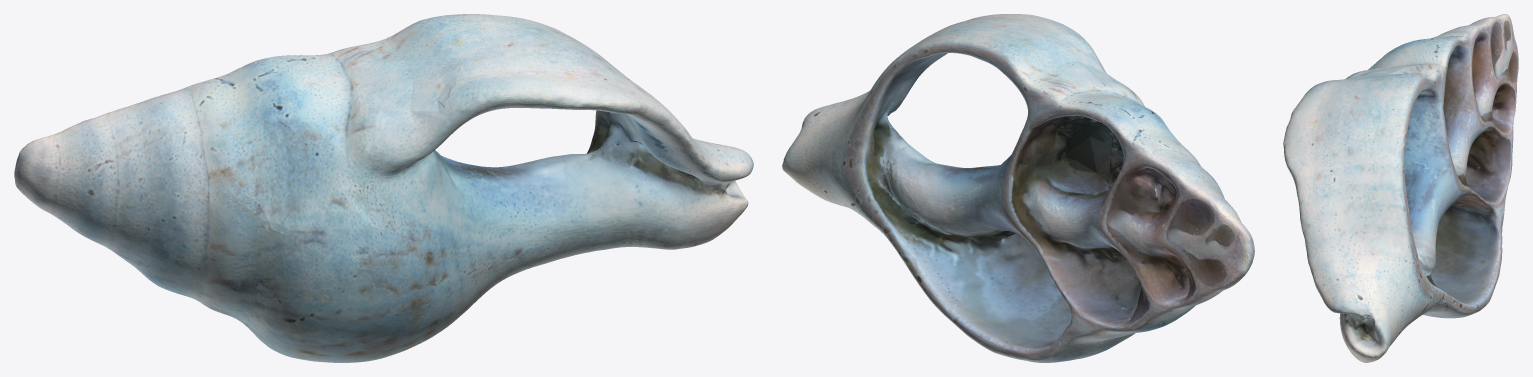
Rendered from MZUR3D-060.glb.
3 renders of one model, left to right at view 1: azimuth 30°, elevation 25°; view 2: azimuth 150°, elevation 25°; view 3: azimuth 270°, elevation 25°, orthographic. The views are drawn at different scales.
Parts seen in each view (by area): view 1: MZUR3D-060; view 2: MZUR3D-060; view 3: MZUR3D-060.
Boxes of the visible parts, x1,y1,x2,y2 form: MZUR3D-060: (14,14,753,362); MZUR3D-060: (782,14,1254,362); MZUR3D-060: (1283,14,1518,362).
Size of the model in its own units: 0.9879 by 0.4799 by 0.4127.
Materials: 1 (1 with a texture image).
